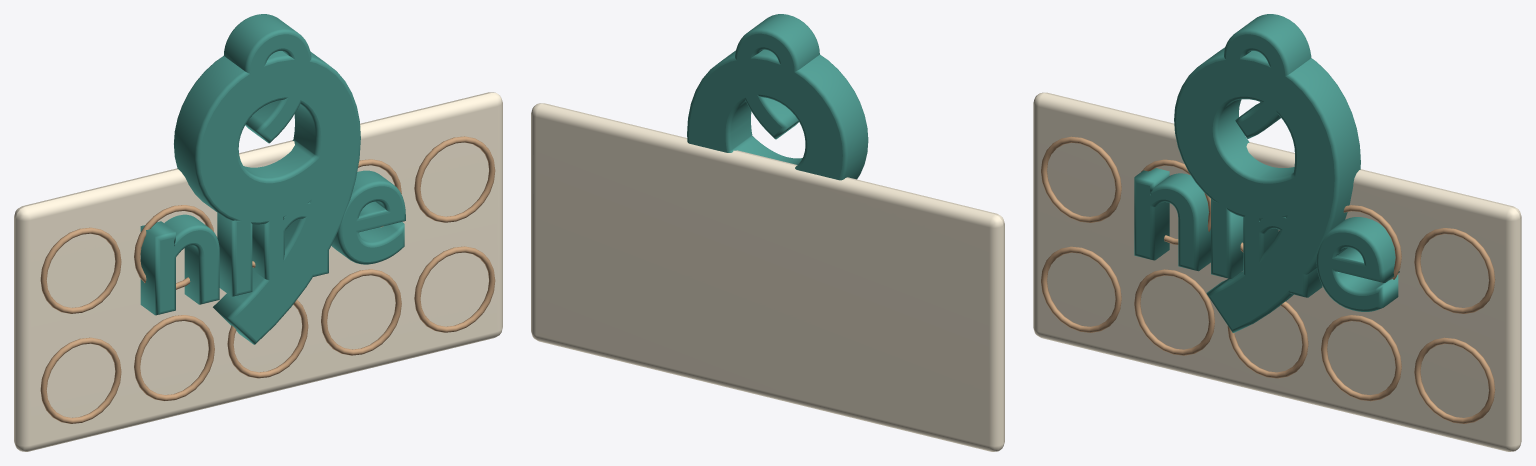
The model's file is number-9.glb.
3 renders of one model, left to right at view 1: azimuth 30°, elevation 25°; view 2: azimuth 150°, elevation 25°; view 3: azimuth 330°, elevation 25°, orthographic. The views are drawn at different scales.
Parts seen in each view (by area): view 1: ten frame tray, number solid, number word, counting numeral, counting slot.006, counting slot.005, counting slot.009, counting slot.004, counting slot, counting slot.008, counting slot.007, counting slot.001; view 2: ten frame tray, number solid, counting numeral; view 3: ten frame tray, number solid, number word, counting numeral, counting slot, counting slot.005, counting slot.008, counting slot.009, counting slot.006, counting slot.004, counting slot.007, counting slot.003 (+1 smaller).
Part boxes in pixels (box(x1,y1,x2,y2)): ten frame tray: box(14, 92, 502, 451); number solid: box(174, 51, 360, 344); number word: box(140, 170, 405, 315); counting numeral: box(224, 14, 311, 143); counting slot.006: box(134, 315, 214, 401); counting slot.005: box(40, 337, 121, 423); counting slot.009: box(414, 246, 495, 332); counting slot.004: box(414, 136, 495, 222); counting slot: box(40, 227, 121, 313); counting slot.008: box(321, 269, 401, 355); counting slot.007: box(227, 299, 308, 378); counting slot.001: box(134, 205, 213, 289); ten frame tray: box(531, 103, 1004, 451); number solid: box(687, 49, 868, 180); counting numeral: box(735, 14, 819, 139); ten frame tray: box(1033, 92, 1521, 451); number solid: box(1174, 47, 1360, 332); number word: box(1134, 168, 1399, 311); counting numeral: box(1224, 14, 1311, 138); counting slot: box(1041, 136, 1121, 222); counting slot.005: box(1041, 246, 1121, 332); counting slot.008: box(1321, 315, 1401, 401); counting slot.009: box(1414, 337, 1495, 423); counting slot.006: box(1134, 269, 1214, 355); counting slot.004: box(1414, 228, 1495, 313); counting slot.007: box(1227, 301, 1308, 378); counting slot.003: box(1343, 205, 1401, 282).
Size of what is drawn, in the model's own units: 2.08 by 1.55 by 0.2.
